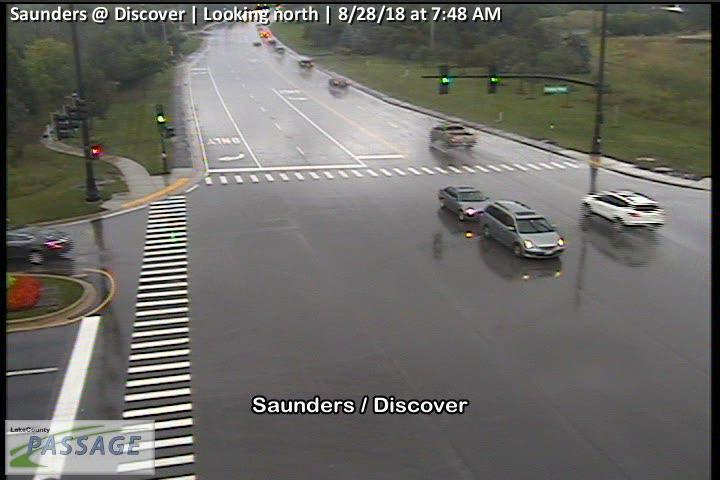SUV: (480, 199, 566, 259), (581, 189, 665, 231)
Sedan: (437, 183, 494, 223)
Truck: (430, 120, 479, 148)
